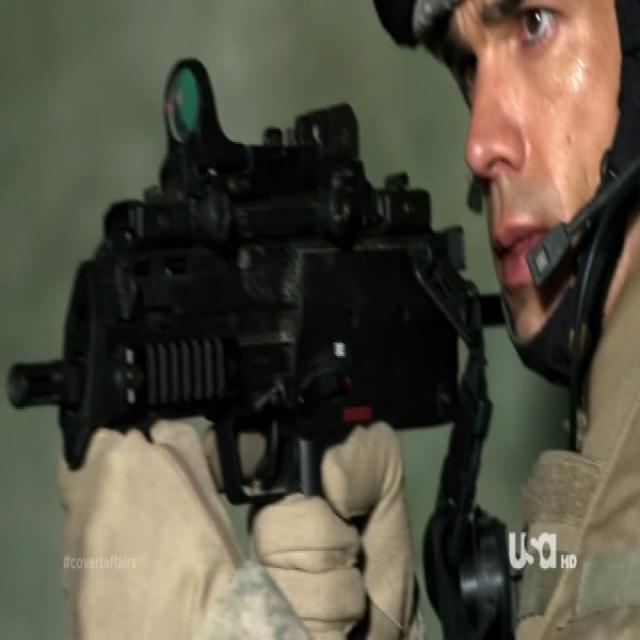rifle: (6, 37, 494, 522)
